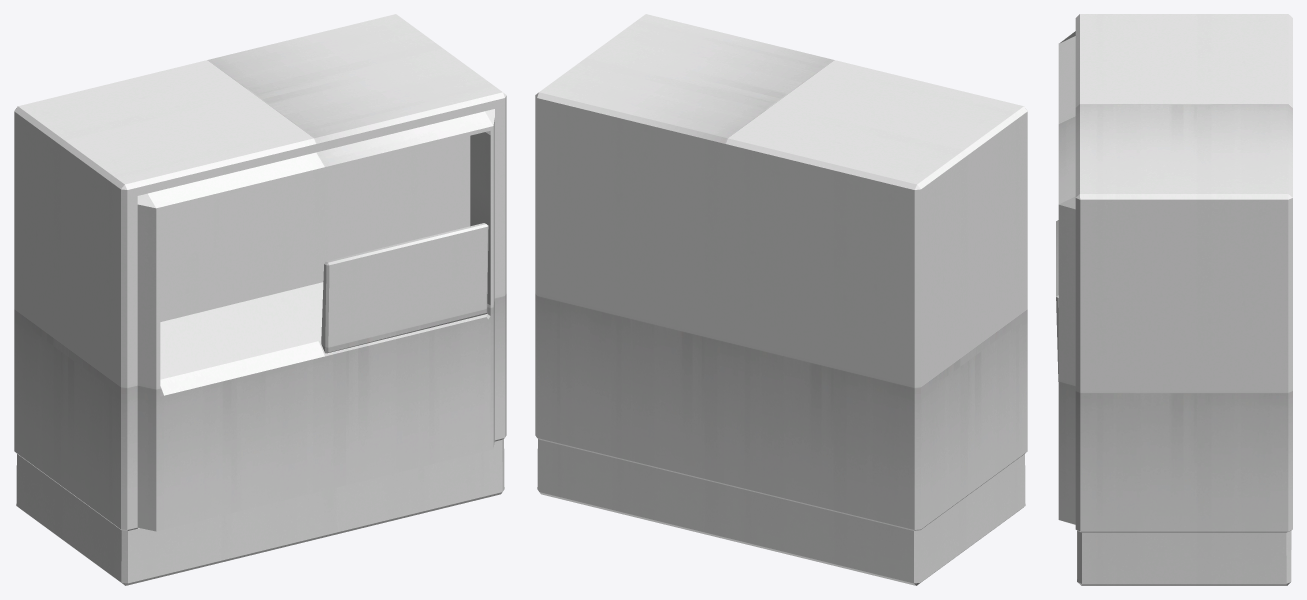
File: ServerRack2.fbx
3 views of the same model, side by side, from view 1: azimuth 30°, elevation 25°; view 2: azimuth 150°, elevation 25°; view 3: azimuth 270°, elevation 25° (orthographic). The views are drawn at different scales.
Visible parts, largest first — view 1: ServerRack_1x1Plain; view 2: ServerRack_1x1Plain; view 3: ServerRack_1x1Plain.
Part boxes in pixels (left/top/right/bottom): ServerRack_1x1Plain: left=14, top=14, right=506, bottom=585; ServerRack_1x1Plain: left=535, top=14, right=1027, bottom=585; ServerRack_1x1Plain: left=1056, top=14, right=1292, bottom=585.
Bounding box in the file's own units: 2 × 1.99 × 1.09.
1 material, 1 textured.
